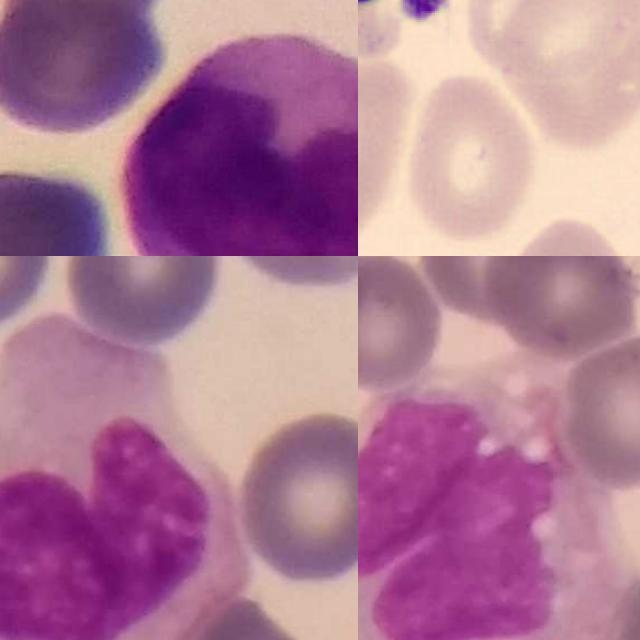Monocyte: (0, 325, 247, 640), (358, 364, 630, 640), (123, 31, 358, 256)
Platelets: (394, 0, 458, 27)
RBC: (400, 68, 542, 249), (486, 0, 640, 153), (358, 48, 419, 256), (501, 212, 632, 256)
